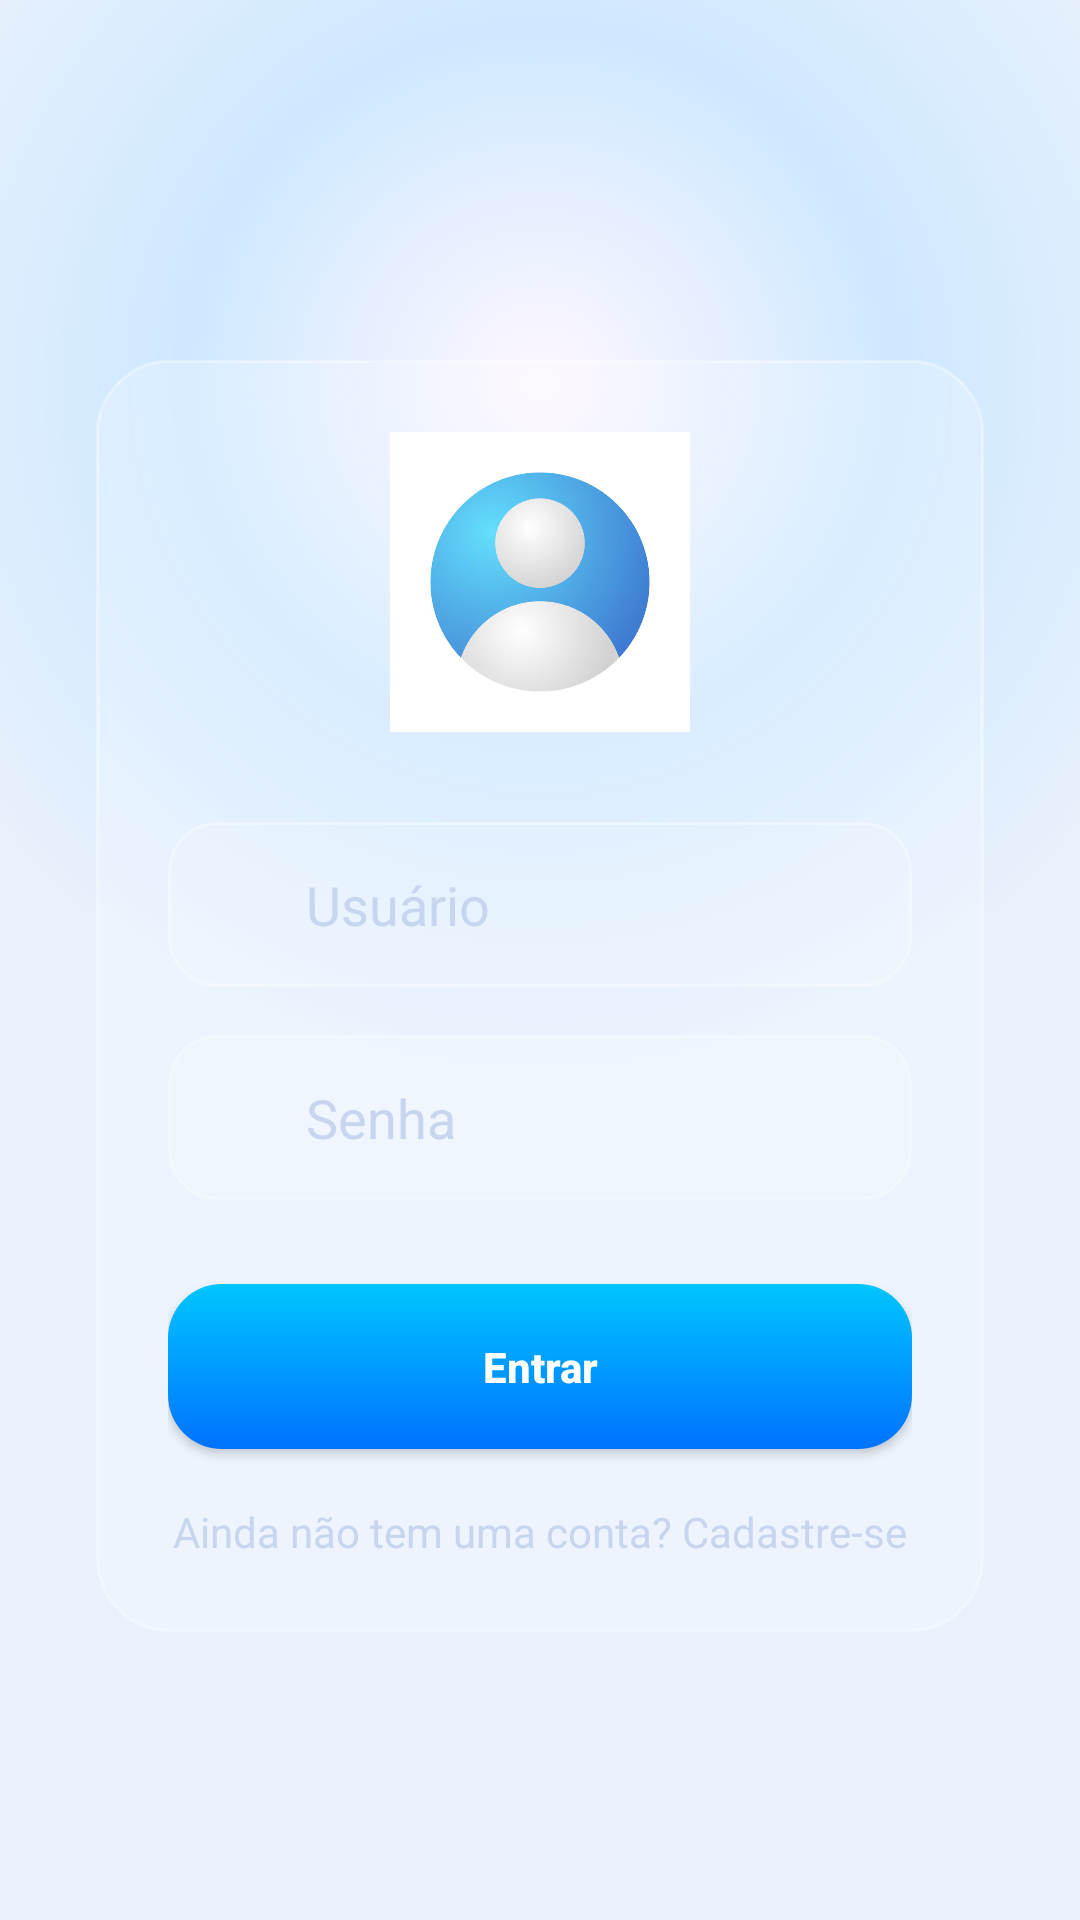

Point at icon controls on the screen. Image size 1080px x 1920px, points as (x,y).
user: (540,582)
